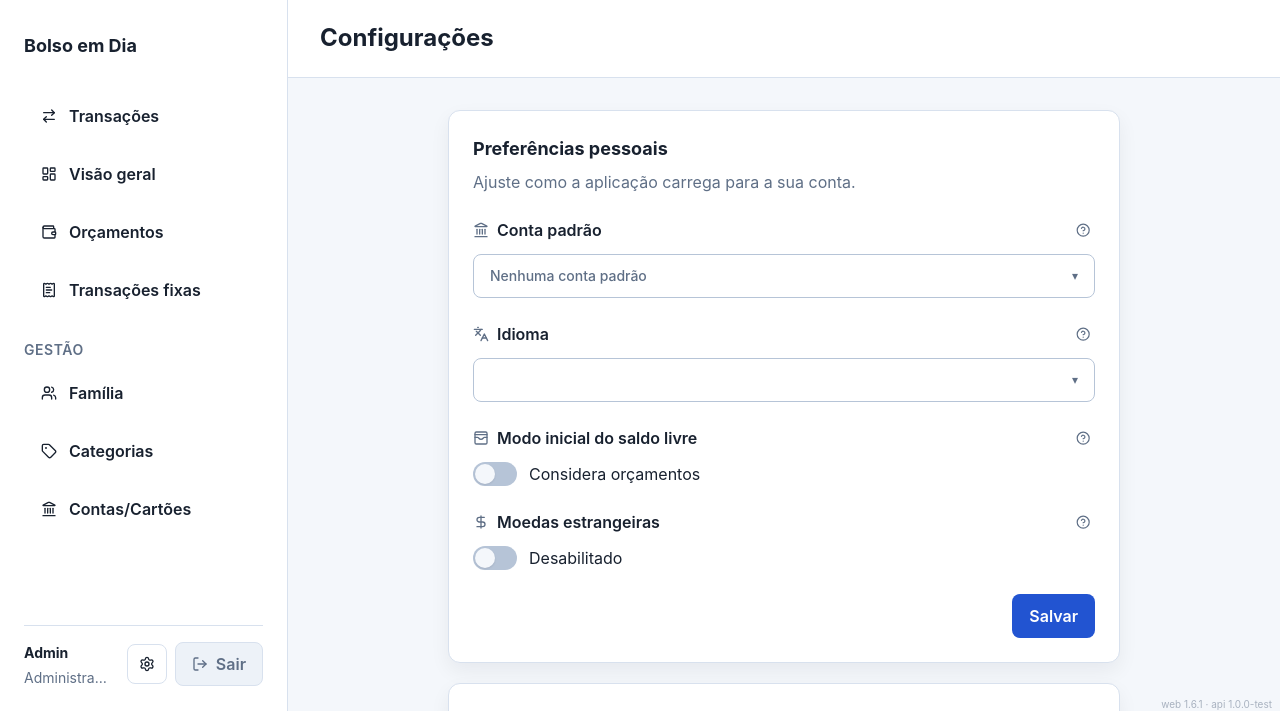
it: UserSettingsPage › shows an error message when saving the preferences fails
Expected: the heading "Preferências pessoais" is shown, [473,138,668,159]
Click the button "Salvar" at (1054, 616), box [1012,594,1095,638]
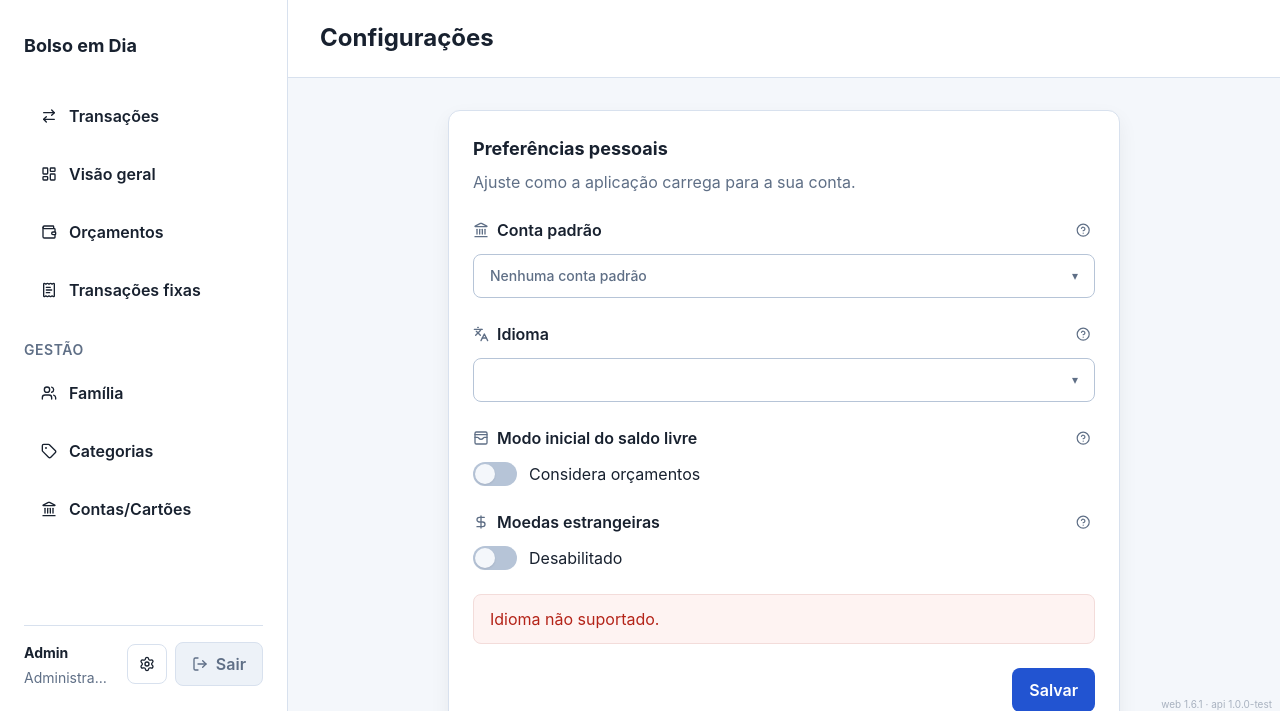
Result: the text "Idioma não suportado." is shown at [473,594,1095,644]
